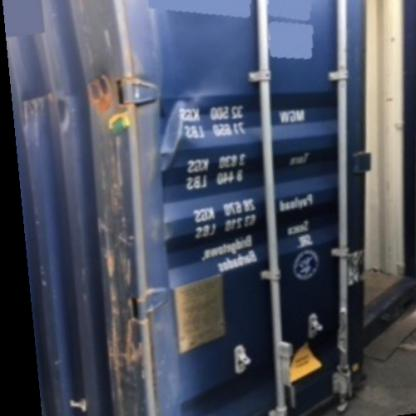Damage: (84, 153, 168, 415), (17, 70, 75, 138), (163, 96, 204, 179), (80, 60, 122, 115)
